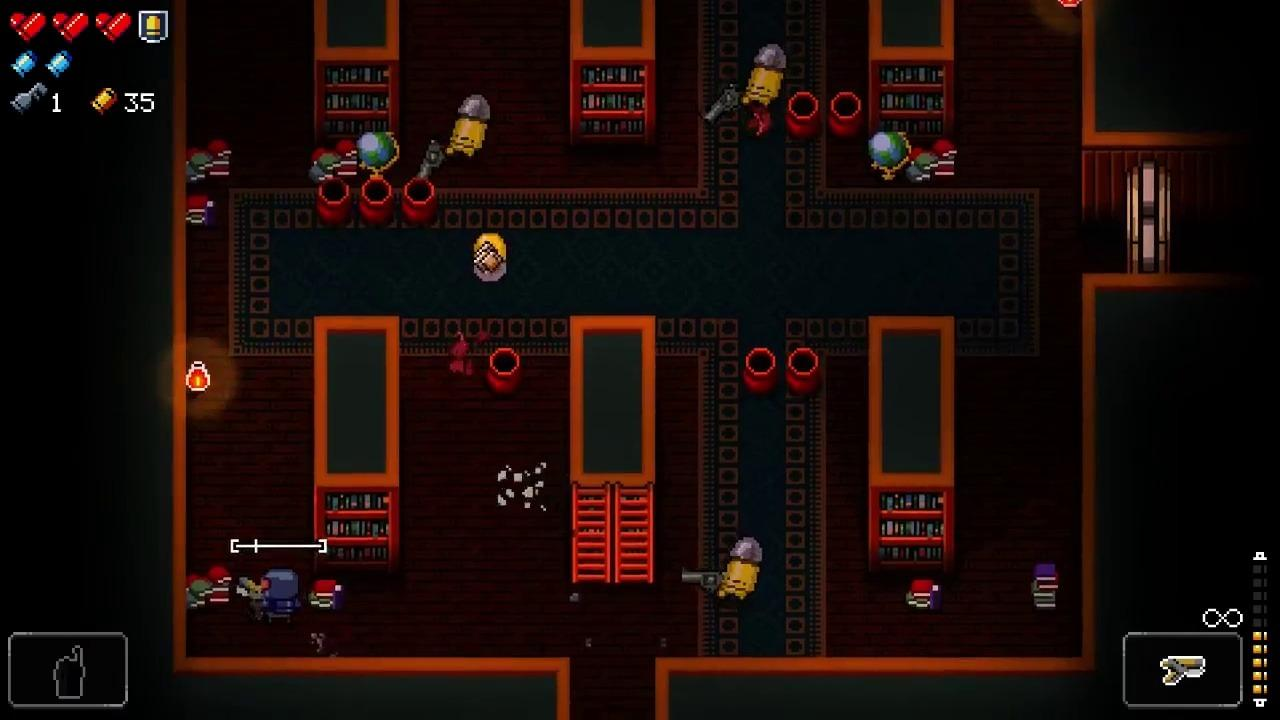bullet_kin: (743, 42, 787, 106), (721, 537, 764, 599), (449, 91, 489, 157)
locked_door: (1125, 160, 1172, 273)
player: (258, 568, 299, 625)
